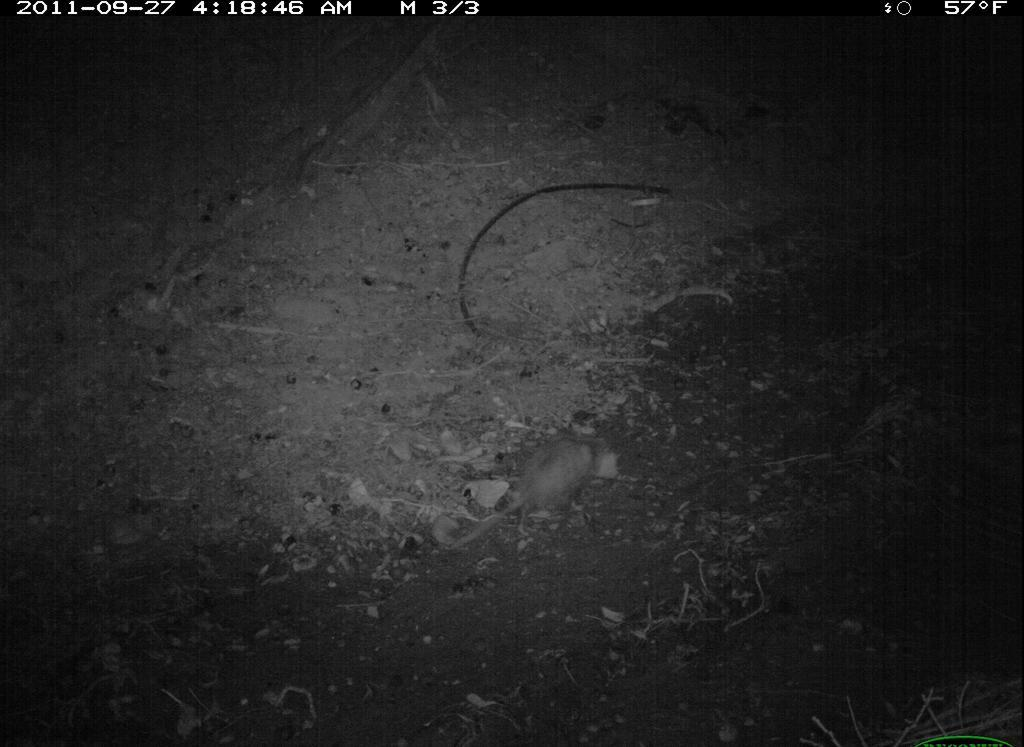opossum: (440, 432, 624, 559)
